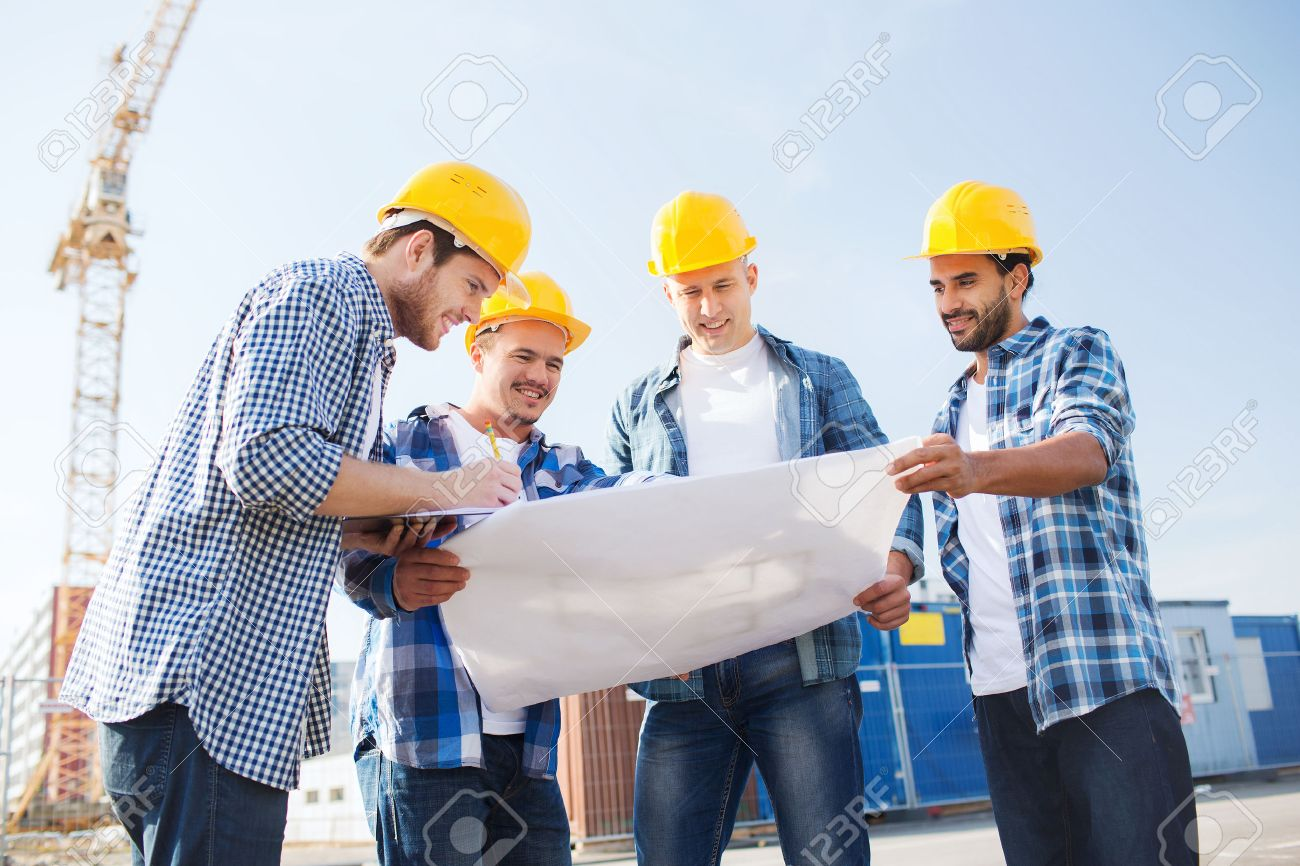casco: (369, 159, 535, 313), (899, 177, 1046, 270), (461, 268, 593, 365), (642, 188, 761, 280)
